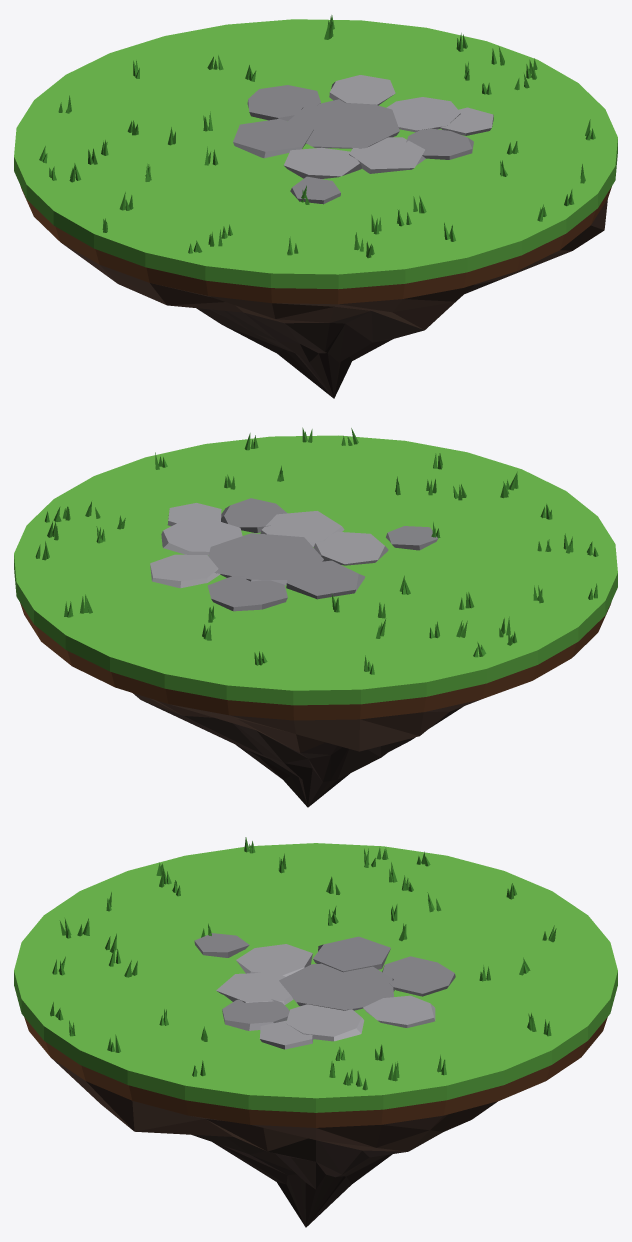
Rendered from island.glb.
3 views of the same model, one above another, from view 1: azimuth 30°, elevation 25°; view 2: azimuth 150°, elevation 25°; view 3: azimuth 270°, elevation 25° (orthographic).
Visible parts, largest first — view 1: Island, StonePath, GrassTufts; view 2: Island, StonePath, GrassTufts; view 3: Island, StonePath, GrassTufts.
Boxes of the visible parts, x1=… form: Island: x1=14, y1=19, x2=617, y2=398; StonePath: x1=233, y1=75, x2=493, y2=204; GrassTufts: x1=39, y1=15, x2=595, y2=258; Island: x1=14, y1=435, x2=617, y2=807; StonePath: x1=150, y1=498, x2=437, y2=611; GrassTufts: x1=35, y1=427, x2=598, y2=674; Island: x1=14, y1=843, x2=617, y2=1227; StonePath: x1=194, y1=933, x2=455, y2=1049; GrassTufts: x1=50, y1=837, x2=556, y2=1090.
Size of the model in its own units: 6 by 2.95 by 6.
